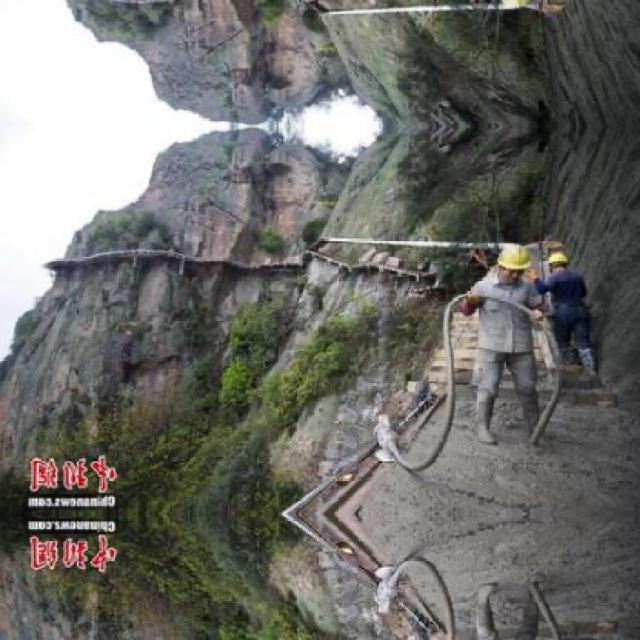con casco: (472, 247, 526, 298)
